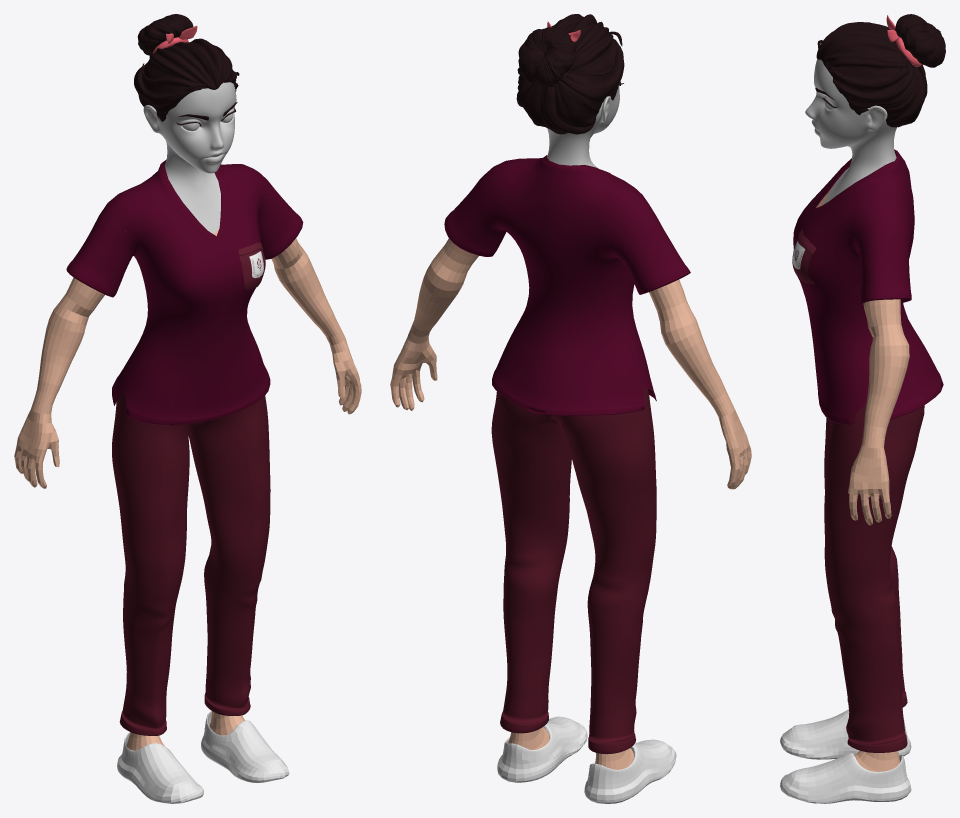
The model's file is Fisoterapeuta.fbx.
3 views of the same model, side by side, from view 1: azimuth 30°, elevation 25°; view 2: azimuth 150°, elevation 25°; view 3: azimuth 270°, elevation 25° (orthographic). The views are drawn at different scales.
Parts seen in each view (by area): view 1: Pantalon_low, camisa_low, Body_low, Face_low, Zapatos_low, Base_head_low.001, Bollo_low, Bolsillo; view 2: Pantalon_low, camisa_low, Body_low, Base_head_low.001, Zapatos_low, Bollo_low, Face_low; view 3: camisa_low, Pantalon_low, Body_low, Base_head_low.001, Zapatos_low, Face_low, Bollo_low, Bolsillo, Moña.
Part boxes in pixels (x1=…): Pantalon_low: x1=112, y1=362, x2=270, y2=735; camisa_low: x1=66, y1=159, x2=303, y2=425; Body_low: x1=14, y1=229, x2=361, y2=750; Face_low: x1=143, y1=82, x2=236, y2=233; Zapatos_low: x1=117, y1=711, x2=289, y2=803; Base_head_low.001: x1=134, y1=38, x2=239, y2=121; Bollo_low: x1=137, y1=14, x2=193, y2=55; Bolsillo: x1=238, y1=242, x2=265, y2=289; Pantalon_low: x1=491, y1=386, x2=656, y2=754; camisa_low: x1=444, y1=155, x2=690, y2=415; Body_low: x1=390, y1=238, x2=751, y2=769; Base_head_low.001: x1=516, y1=14, x2=624, y2=134; Zapatos_low: x1=497, y1=716, x2=676, y2=803; Bollo_low: x1=518, y1=27, x2=576, y2=87; Face_low: x1=547, y1=82, x2=620, y2=168; camisa_low: x1=793, y1=149, x2=943, y2=424; Pantalon_low: x1=824, y1=404, x2=924, y2=752; Body_low: x1=816, y1=185, x2=909, y2=771; Base_head_low.001: x1=816, y1=22, x2=927, y2=127; Zapatos_low: x1=780, y1=709, x2=911, y2=803; Face_low: x1=805, y1=59, x2=896, y2=204; Bollo_low: x1=895, y1=14, x2=945, y2=67; Bolsillo: x1=792, y1=229, x2=815, y2=284; Moña: x1=886, y1=15, x2=922, y2=66.
Size of the model in its own units: 244 by 511 by 102.
